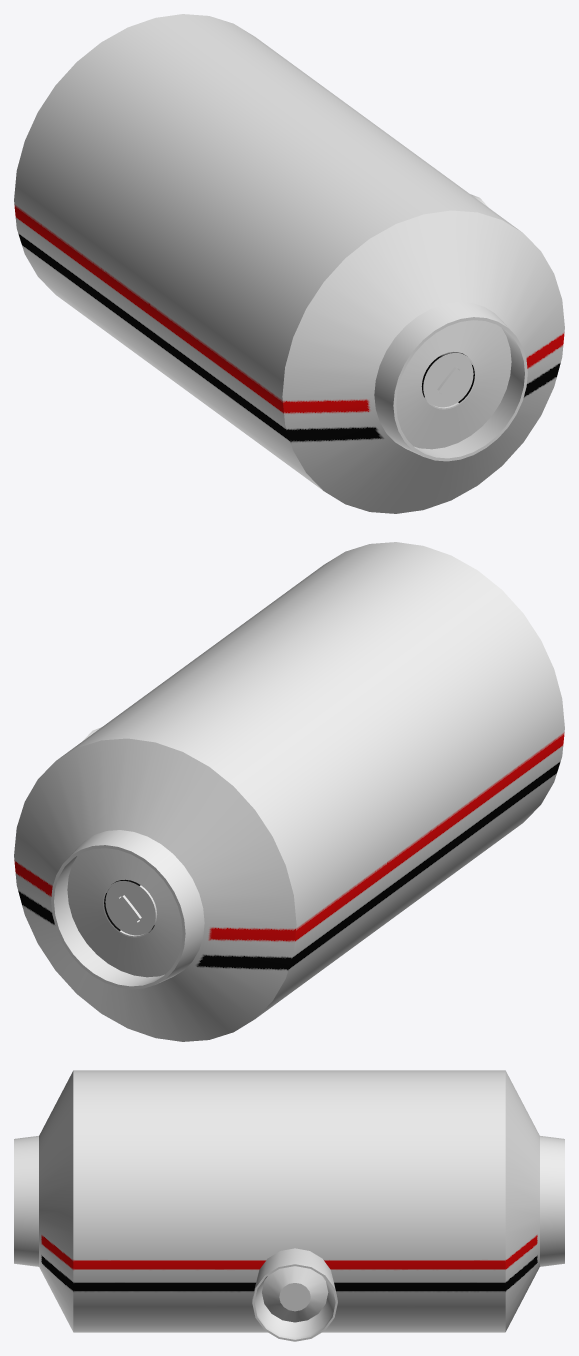
The model's file is Recreation.glb.
3 views of the same model, one above another, from view 1: azimuth 30°, elevation 25°; view 2: azimuth 150°, elevation 25°; view 3: azimuth 270°, elevation 25° (orthographic). The views are drawn at different scales.
Parts seen in each view (by area): view 1: private outer.002; view 2: private outer.002; view 3: private outer.002.
Part boxes in pixels (box(x1,y1,x2,y2)): private outer.002: box(14, 14, 564, 513); private outer.002: box(14, 542, 564, 1041); private outer.002: box(14, 1070, 564, 1341).
Bounding box in the file's own units: 1.49 × 1.25 × 2.63.
Materials: 1 (1 with a texture image).
